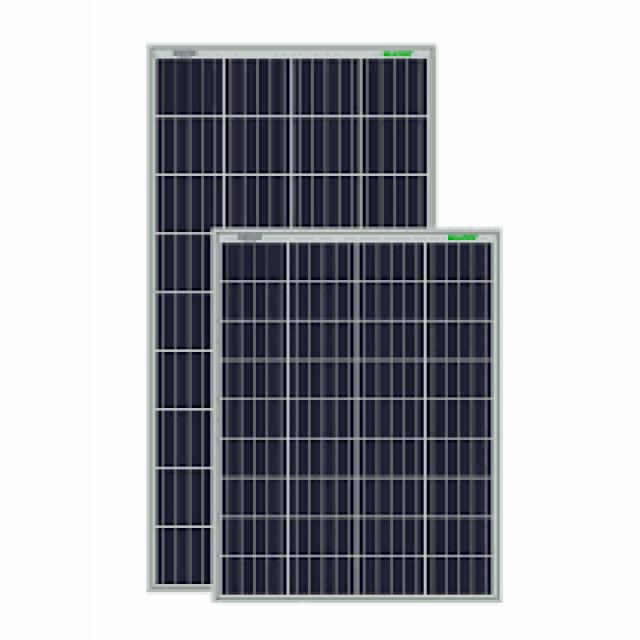Solar: (145, 39, 436, 589), (208, 222, 497, 603)
